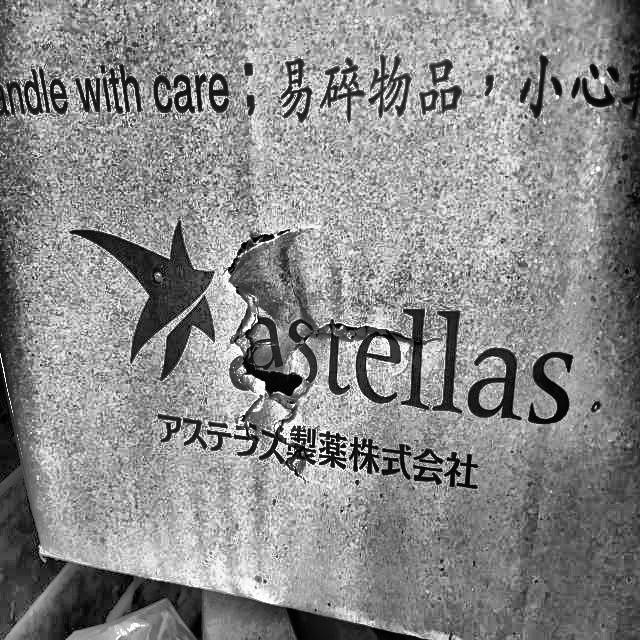box: (0, 0, 639, 639)
hole: (226, 241, 312, 408)
